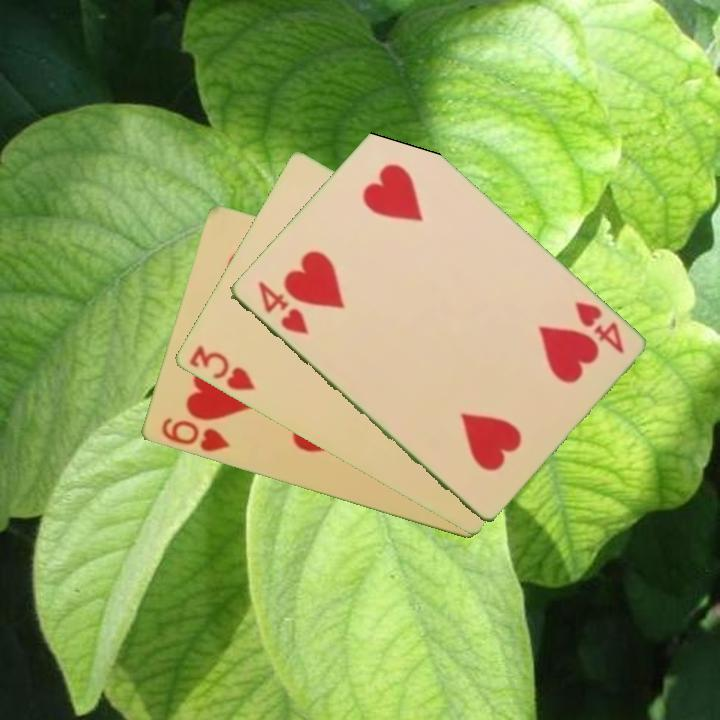3h: (185, 341, 259, 394)
4h: (254, 277, 312, 338), (570, 297, 627, 356)
6h: (157, 414, 232, 455)
